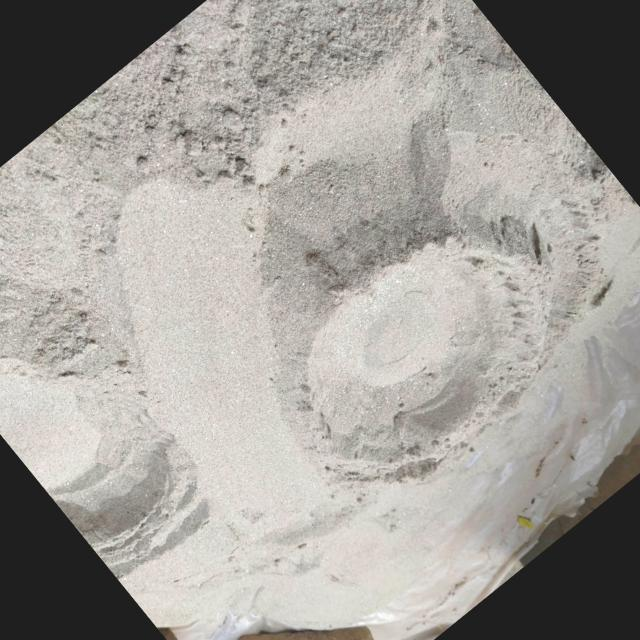C20: (304, 244, 538, 475), (0, 371, 209, 579)
